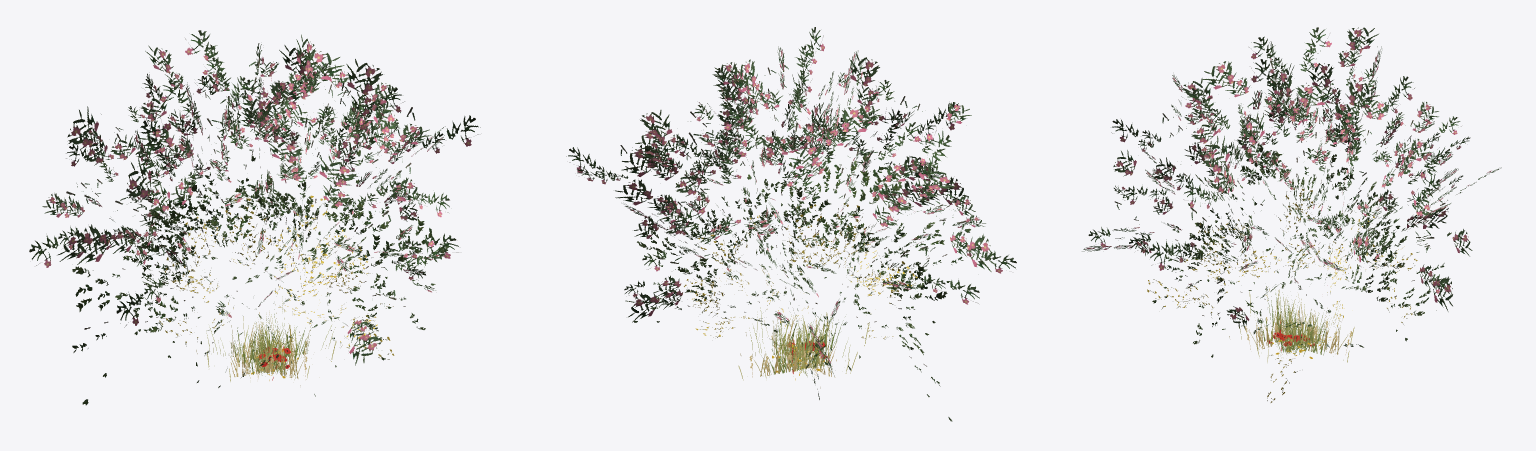
The model's file is nature-plants.glb.
The picture shows the model from 3 angles, left to right: view 1: azimuth 30°, elevation 25°; view 2: azimuth 150°, elevation 25°; view 3: azimuth 270°, elevation 25°; orthographic projection. The views are drawn at different scales.
Visible parts, largest first — view 1: bush_oleander_hi, bush_oleander_lite, bush_myrtle_hi, bush_myrtle_lite, grass_tall, bush_broom_hi, grass_dry, bush_broom_lite; view 2: bush_oleander_hi, bush_oleander_lite, bush_myrtle_hi, bush_myrtle_lite, grass_tall, bush_broom_hi, grass_dry, bush_broom_lite, grass_green; view 3: bush_oleander_hi, bush_oleander_lite, bush_myrtle_hi, bush_myrtle_lite, grass_tall, bush_broom_hi, grass_dry, bush_broom_lite, grass_green.
Part boxes in pixels (x1,y1,x2,y2): bush_oleander_hi: (57,58,446,342); bush_oleander_lite: (29,30,480,365); bush_myrtle_hi: (95,174,425,396); bush_myrtle_lite: (72,124,448,405); grass_tall: (196,296,342,385); bush_broom_hi: (178,215,393,356); grass_dry: (229,312,307,378); bush_broom_lite: (159,195,394,364); bush_oleander_hi: (596,45,985,342); bush_oleander_lite: (566,27,1016,376); bush_myrtle_hi: (650,162,950,396); bush_myrtle_lite: (625,136,974,421); grass_tall: (740,307,869,388); bush_broom_hi: (684,215,899,354); grass_dry: (749,318,837,377); bush_broom_lite: (695,203,917,339); grass_green: (738,339,859,380); bush_oleander_hi: (1088,50,1476,329); bush_oleander_lite: (1082,27,1501,311); bush_myrtle_hi: (1152,164,1429,357); bush_myrtle_lite: (1195,143,1451,350); grass_tall: (1229,288,1354,362); bush_broom_hi: (1166,203,1412,382); grass_dry: (1245,309,1352,354); bush_broom_lite: (1147,188,1417,402); grass_green: (1249,317,1349,362).
Bounding box in the file's own units: 3.57 × 2.69 × 3.09.
1 material, 1 textured.
